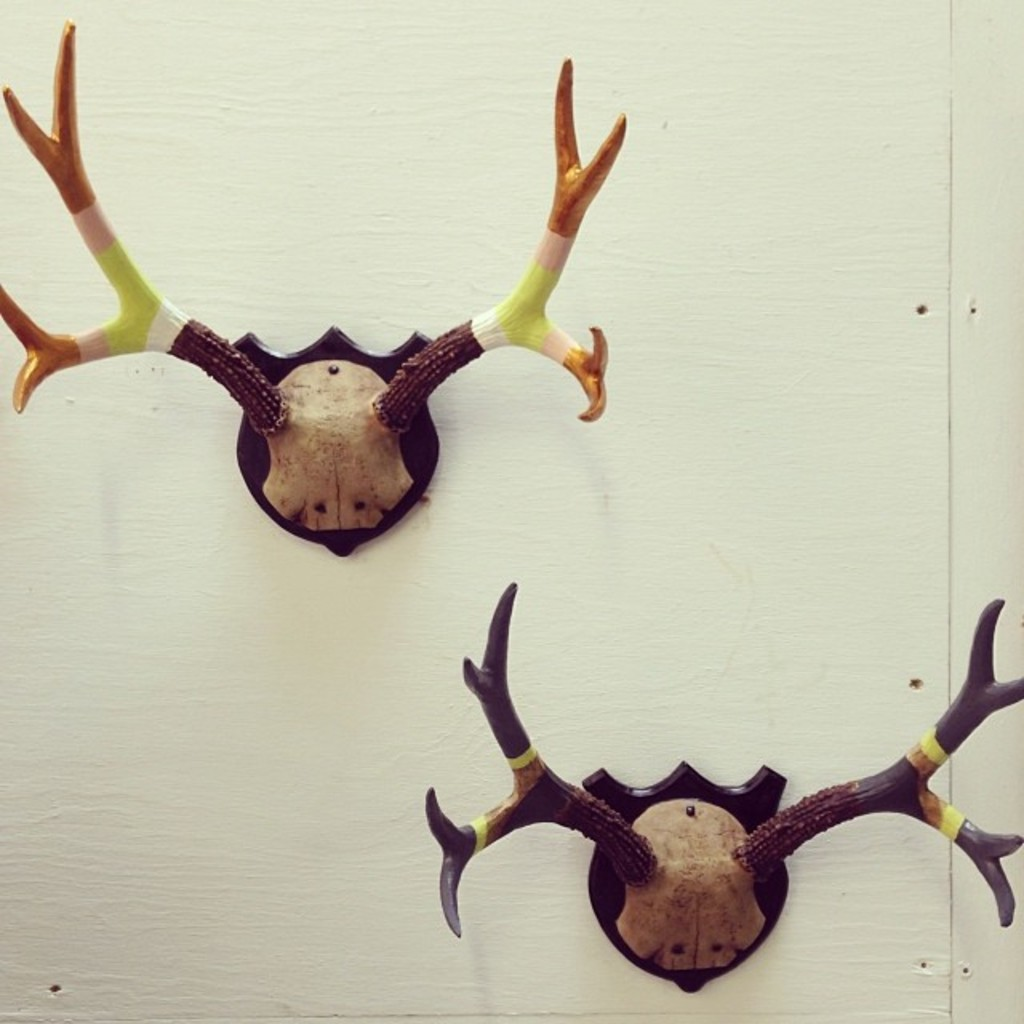person: (0, 30, 630, 560)
